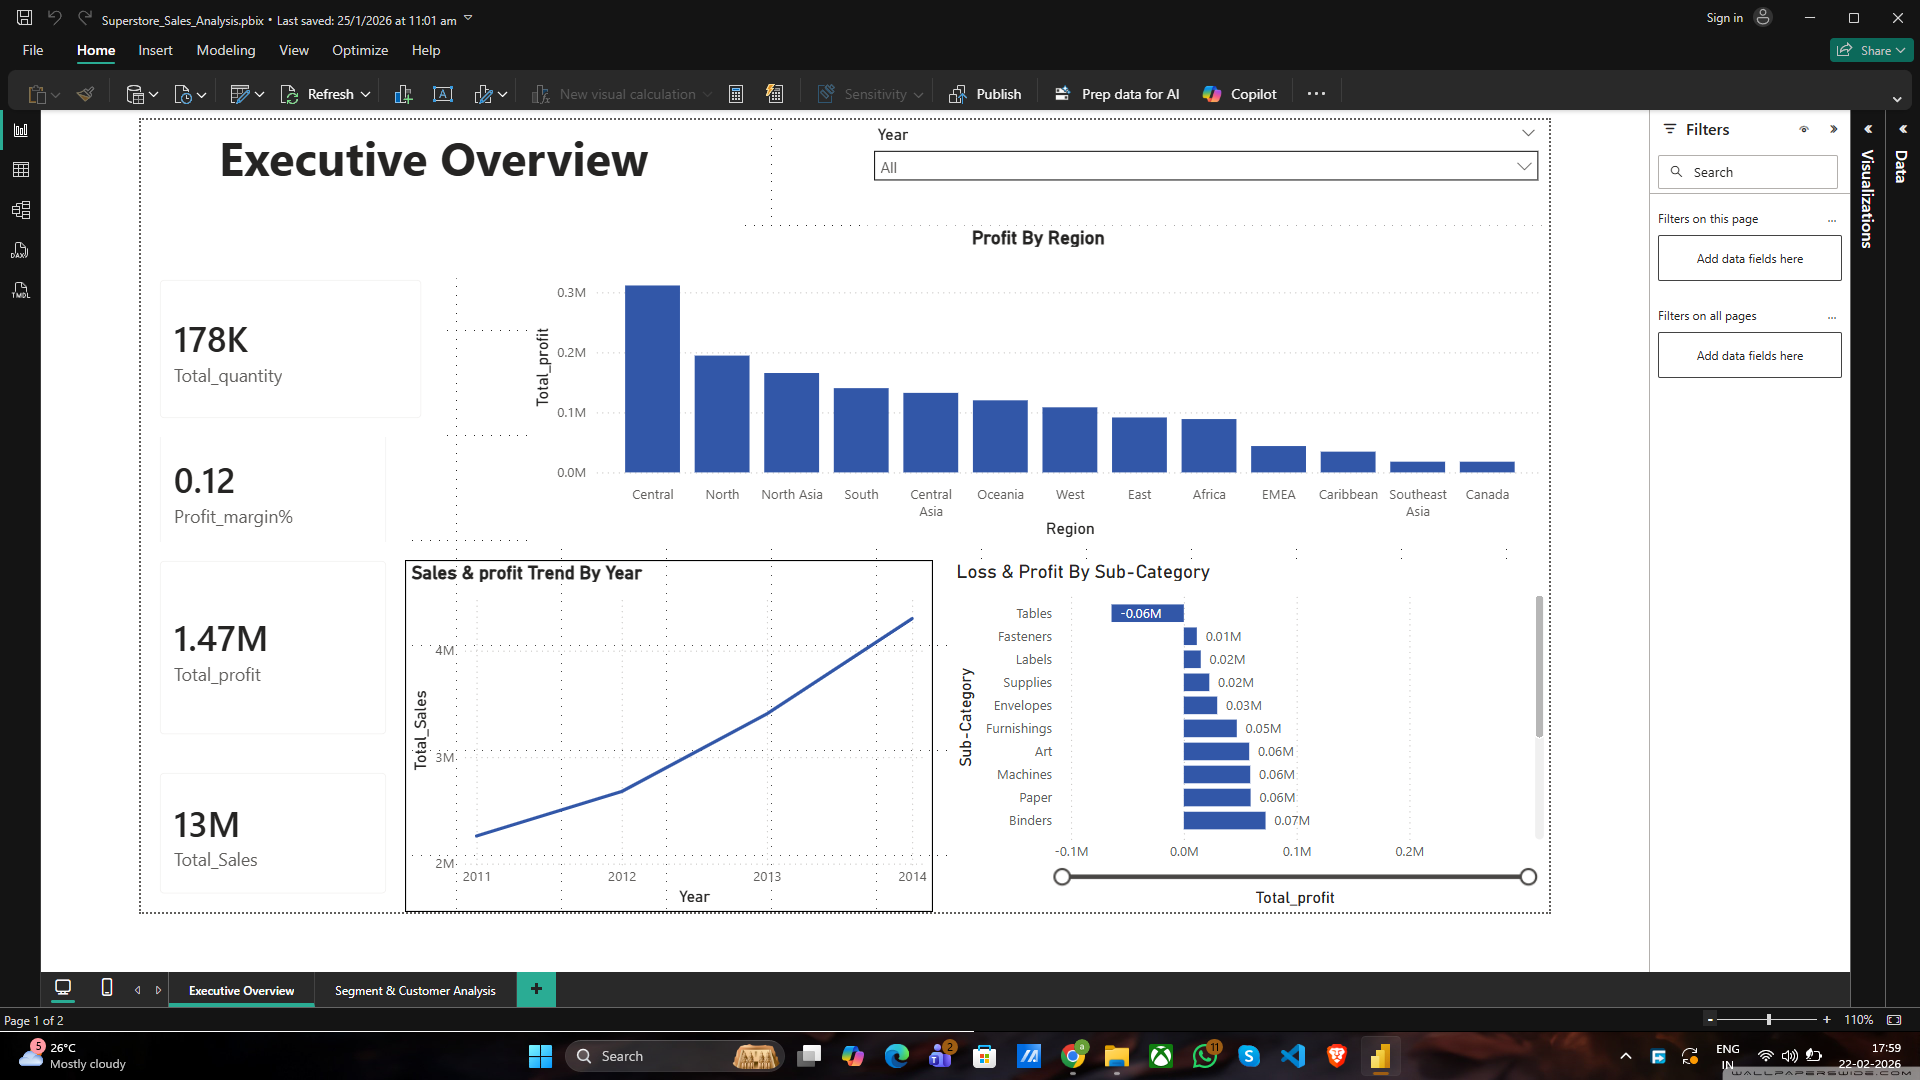

What the dashboard file says about the page in this screenshot:
{"tool":"powerbi","page":{"name":"Executive Overview","canvas":[1280,720],"ordinal":0},"visuals":[{"type":"cardVisual","fields":{"Data":["Global Superstore.Profit_margin%"]},"box":[0,256,240,160],"z":0},{"type":"cardVisual","fields":{"Data":["Global Superstore.Total_profit"]},"box":[0,384,240,192],"z":1000},{"type":"cardVisual","fields":{"Data":["Global Superstore.Total_Sales"]},"box":[0,576,240,144],"z":2000},{"type":"cardVisual","fields":{"Data":["Global Superstore.Total_quantity"]},"box":[0,128,272,160],"z":3000},{"type":"lineChart","title":"Sales & profit Trend By Year","fields":{"Category":["DateTable.Year"],"Y":["Global Superstore.Total_Sales"]},"box":[240,400,480,320],"z":4000},{"type":"clusteredBarChart","title":"Loss & Profit By Sub-Category","fields":{"Y":["Global Superstore.Total_profit"],"Category":["Global Superstore.Sub-Category"]},"box":[736,400,544,320],"z":5000},{"type":"clusteredColumnChart","title":"Profit By Region","fields":{"Category":["Global Superstore.Region"],"Y":["Global Superstore.Total_profit"]},"box":[352,96,928,288],"z":6000},{"type":"slicer","fields":{"Values":["DateTable.Year"]},"box":[656,0,624,96],"z":7000},{"type":"textbox","box":[0,0,544,144],"z":7001}]}

Visuals, with their boxes on the page's 1280x720 design canvas (x1, y1, x2, y2). These are canvas units, not pixel positions in the 1920x1080 screenshot, which may show the page scaled, cropped or inside an application window:
cardVisual - Global Superstore.Profit_margin%: <bbox>0, 256, 240, 416</bbox>
cardVisual - Global Superstore.Total_profit: <bbox>0, 384, 240, 576</bbox>
cardVisual - Global Superstore.Total_Sales: <bbox>0, 576, 240, 720</bbox>
cardVisual - Global Superstore.Total_quantity: <bbox>0, 128, 272, 288</bbox>
"Sales & profit Trend By Year" lineChart: <bbox>240, 400, 720, 720</bbox>
"Loss & Profit By Sub-Category" clusteredBarChart: <bbox>736, 400, 1280, 720</bbox>
"Profit By Region" clusteredColumnChart: <bbox>352, 96, 1280, 384</bbox>
slicer - DateTable.Year: <bbox>656, 0, 1280, 96</bbox>
textbox: <bbox>0, 0, 544, 144</bbox>
